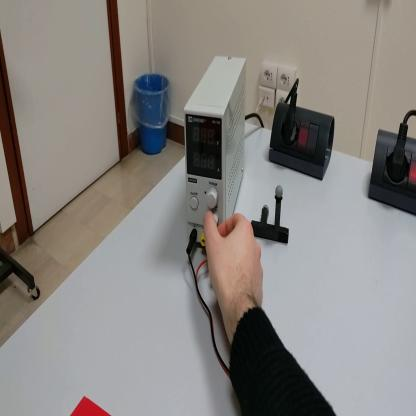hand: (205, 211, 265, 317)
power supply: (185, 57, 248, 248)
socket: (266, 99, 338, 184), (371, 124, 416, 217)
